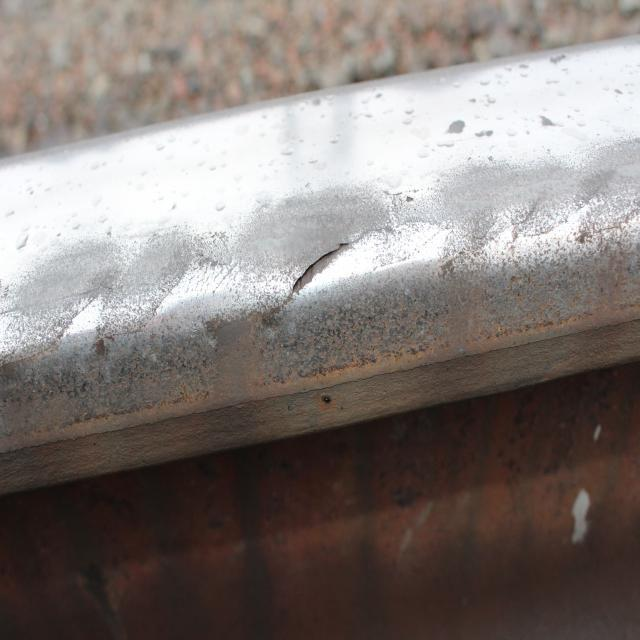broken_rail_medium: (274, 234, 363, 315), (479, 59, 532, 89), (539, 110, 563, 130), (546, 49, 570, 65), (15, 230, 33, 251), (446, 118, 466, 136), (403, 105, 415, 129), (475, 126, 496, 138), (312, 97, 330, 107), (614, 86, 624, 97), (375, 88, 383, 100)
